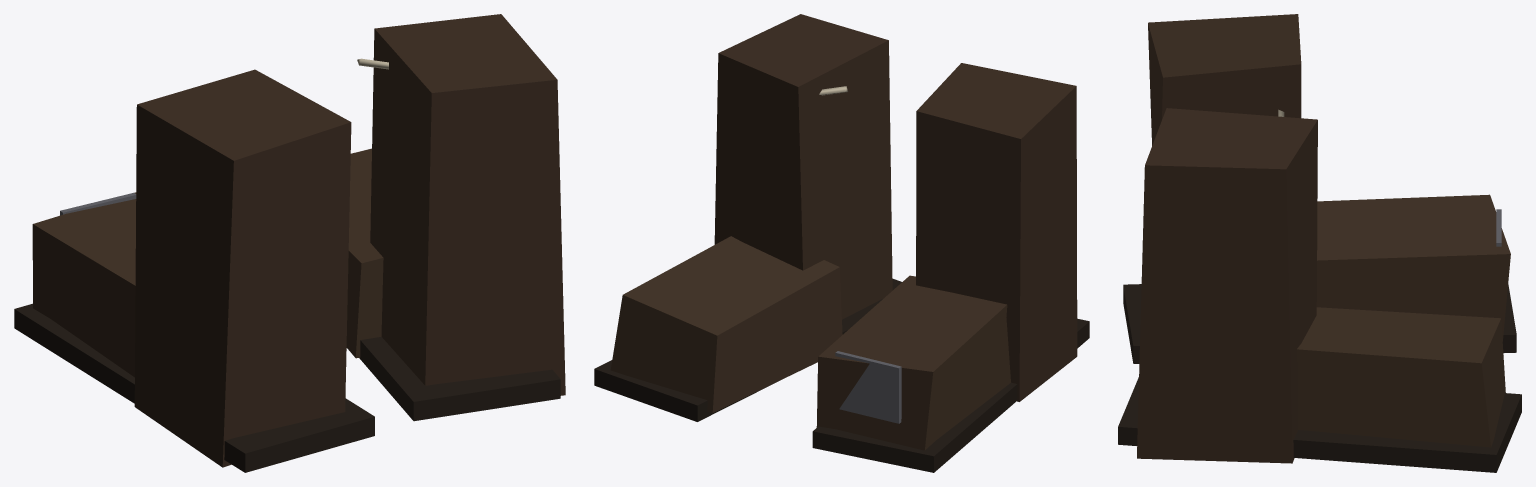
Rendered from boots_feyre.glb.
3 renders of one model, left to right at view 1: azimuth 30°, elevation 25°; view 2: azimuth 150°, elevation 25°; view 3: azimuth 270°, elevation 25°, orthographic. The views are drawn at different scales.
Visible parts, largest first — view 1: boots_feyre; view 2: boots_feyre; view 3: boots_feyre.
Part boxes in pixels (x1,y1,x2,y2): boots_feyre: [14, 14, 565, 472]; boots_feyre: [594, 14, 1089, 472]; boots_feyre: [1118, 14, 1521, 472].
Size of the model in its own units: 0.3243 by 0.2473 by 0.3047.
